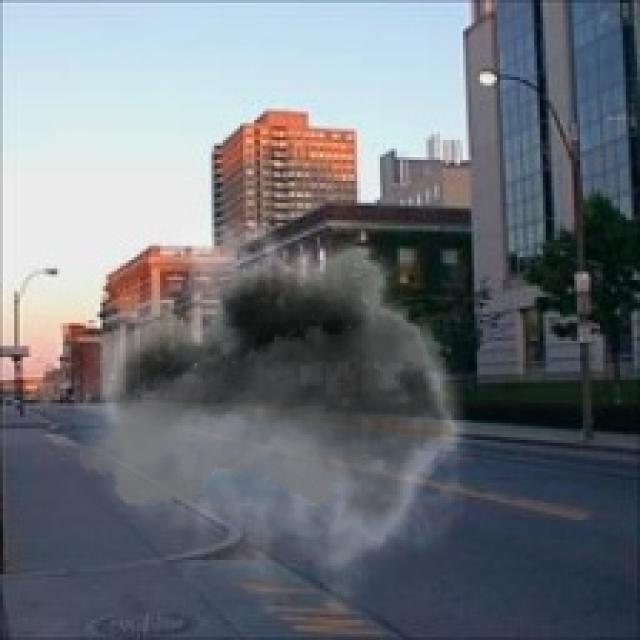smoke: (74, 200, 489, 617)
